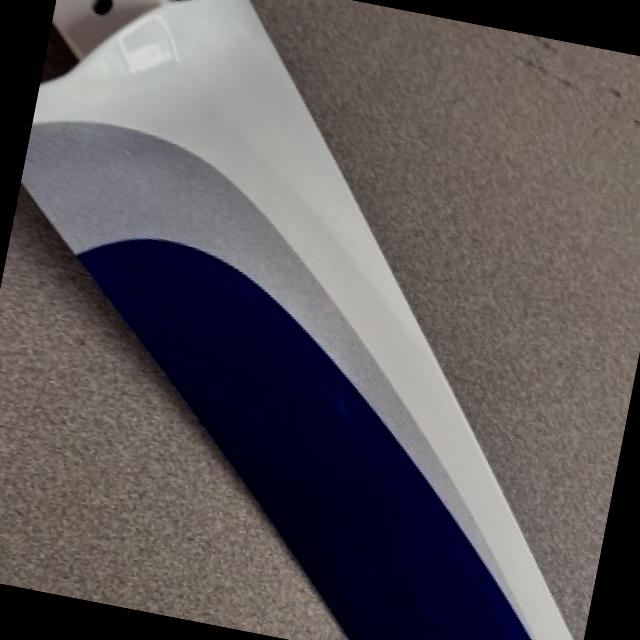healthy: (0, 188, 343, 640)
